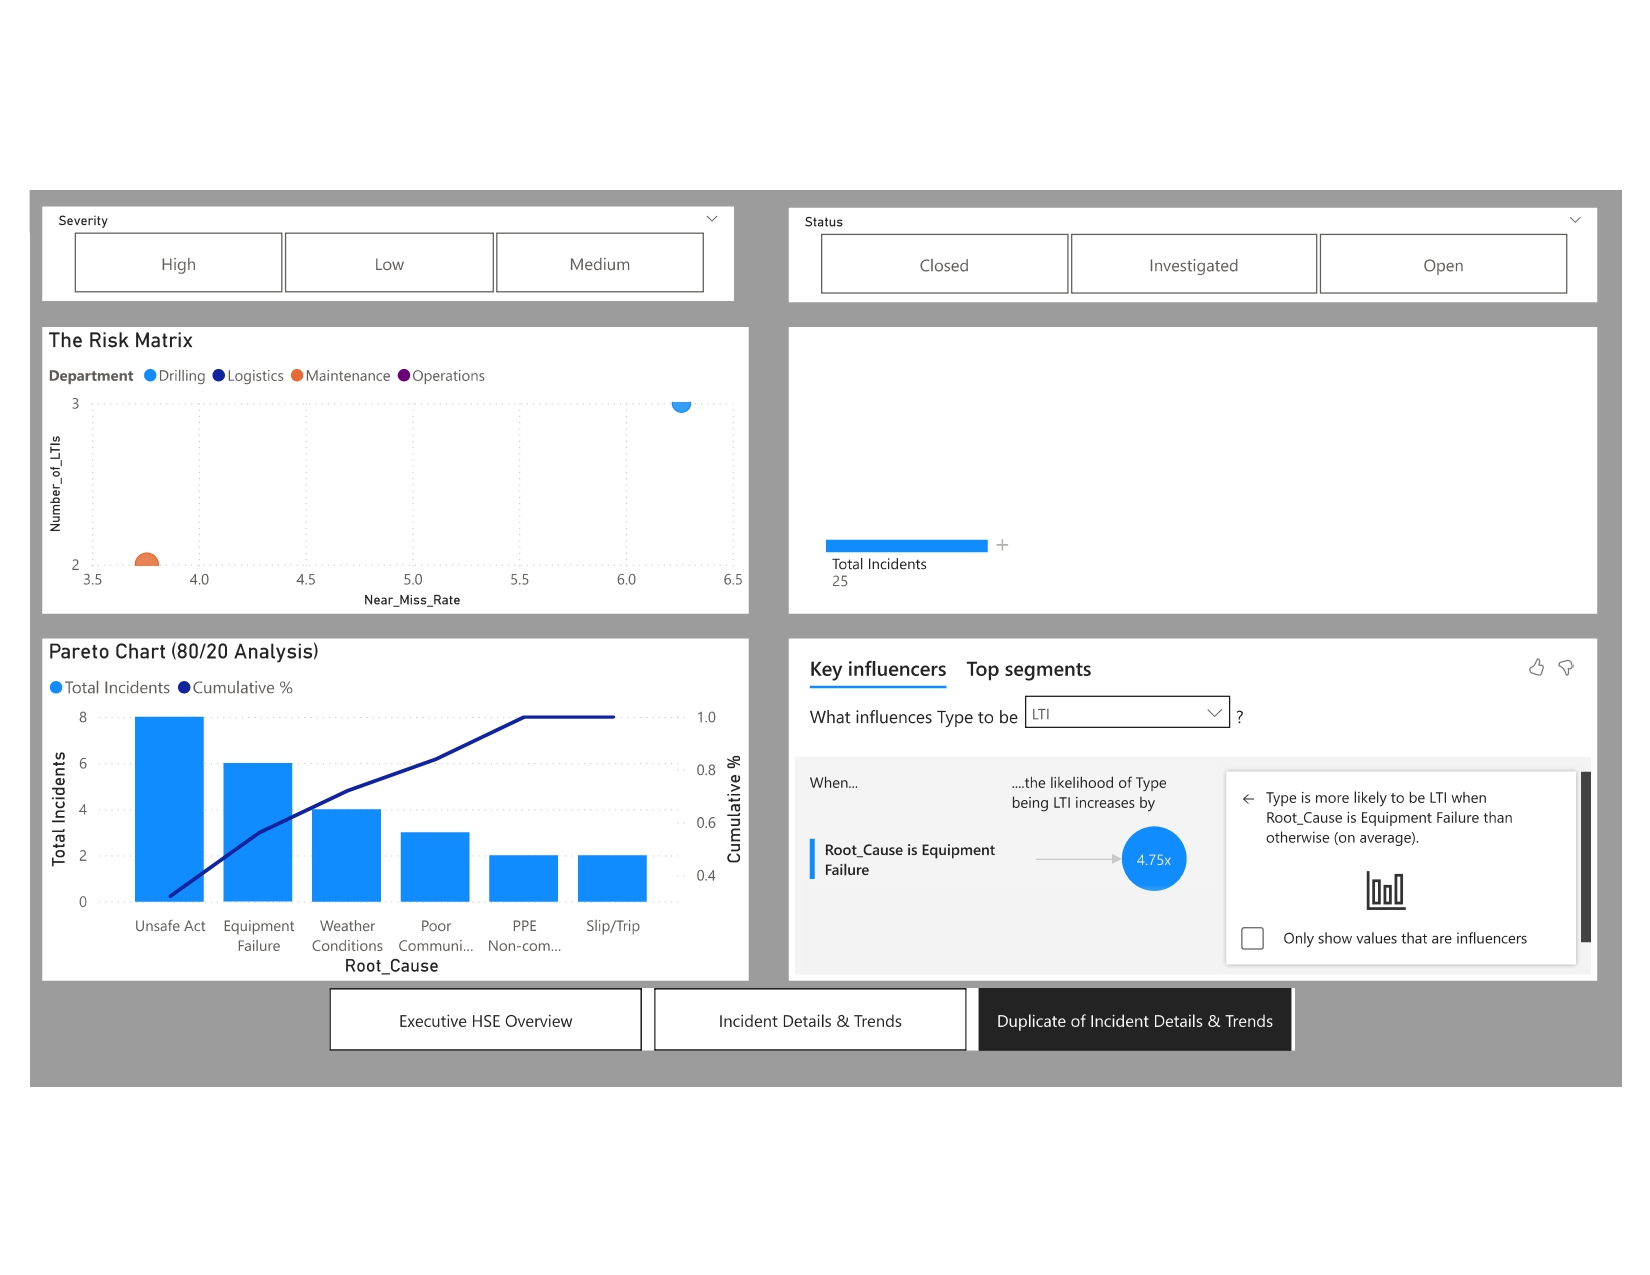

What the dashboard file says about the page in this screenshot:
{"tool":"powerbi","page":{"name":"Duplicate of Incident Details & Trends","canvas":[1280,720],"ordinal":2},"visuals":[{"type":"slicer","fields":{"Values":["Fact_Incidents.Severity"]},"box":[10,12.9,555.7,75.7],"z":0},{"type":"slicer","fields":{"Values":["Fact_Incidents.Status"]},"box":[610,14.3,650,75.7],"z":1000},{"type":"scatterChart","title":"The Risk Matrix","fields":{"Series":["Fact_Incidents.Department"],"Size":["Dim_Date.TRIR"],"X":["Dim_Date.Near_Miss_Rate"],"Y":["Dim_Date.Number_of_LTIs"]},"box":[10,110,568.3,230],"z":3000},{"type":"lineStackedColumnComboChart","title":"Pareto Chart (80/20 Analysis)","fields":{"Category":["Fact_Incidents.Root_Cause"],"Y":["Dim_Date.Total Incidents"],"Y2":["_Measures.Cumulative %"]},"box":[10,360,568.3,275],"z":4000},{"type":"decompositionTreeVisual","fields":{"Analyze":["Dim_Date.Total Incidents"],"ExplainBy":["Fact_Incidents.Root_Cause"]},"box":[610,110,650,230],"z":5000},{"type":"keyDriversVisual","fields":{"ExplainBy":["Fact_Incidents.Department","Dim_Employees.Experience_Years","Fact_Incidents.Root_Cause","Dim_Employees.Certification_Status"],"Target":["Fact_Incidents.Type"]},"box":[610,360,650,275],"z":6000},{"type":"pageNavigator","box":[241.4,641.4,775.7,50],"z":6001}]}

Visuals, with their boxes on the page's 1280x720 design canvas (x1, y1, x2, y2). These are canvas units, not pixel positions in the 1650x1275 screenshot, which may show the page scaled, cropped or inside an application window:
slicer - Fact_Incidents.Severity: <region>10, 13, 566, 89</region>
slicer - Fact_Incidents.Status: <region>610, 14, 1260, 90</region>
"The Risk Matrix" scatterChart: <region>10, 110, 578, 340</region>
"Pareto Chart (80/20 Analysis)" lineStackedColumnComboChart: <region>10, 360, 578, 635</region>
decompositionTreeVisual - Dim_Date.Total Incidents x Fact_Incidents.Root_Cause: <region>610, 110, 1260, 340</region>
keyDriversVisual - Fact_Incidents.Department x Dim_Employees.Experience_Years: <region>610, 360, 1260, 635</region>
pageNavigator: <region>241, 641, 1017, 691</region>
